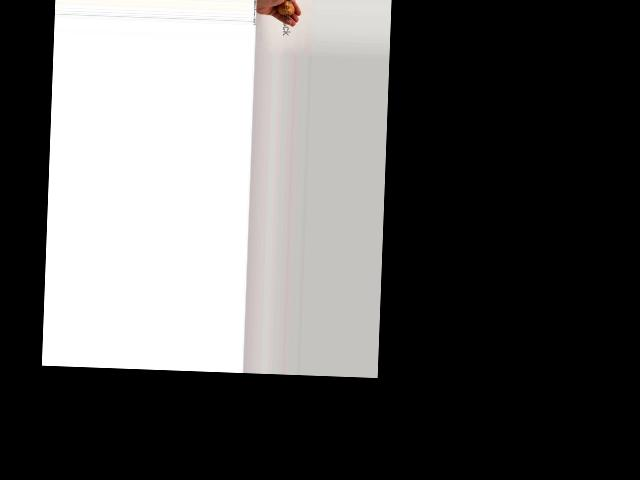egg: (276, 0, 294, 16)
